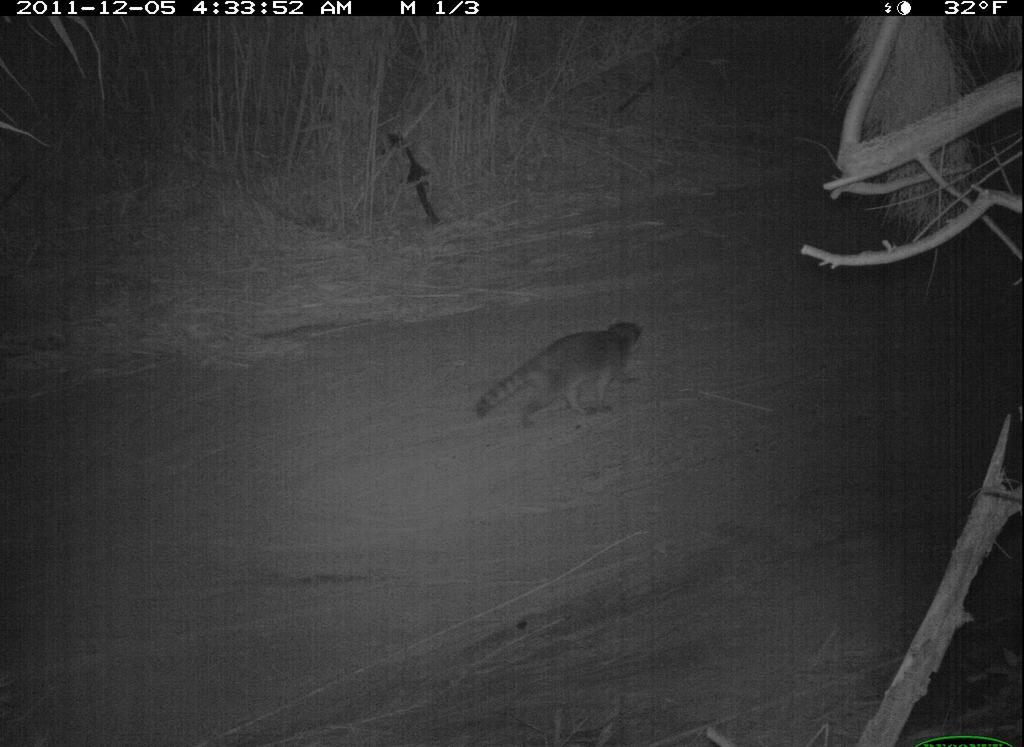raccoon: (468, 307, 652, 443)
